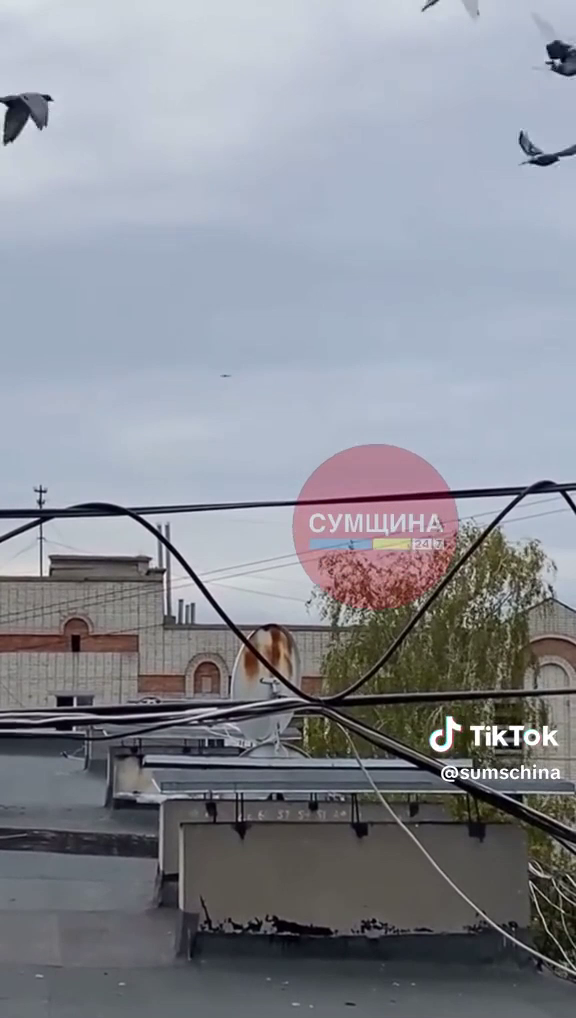not_drone: (0, 79, 65, 162), (509, 118, 576, 182)
